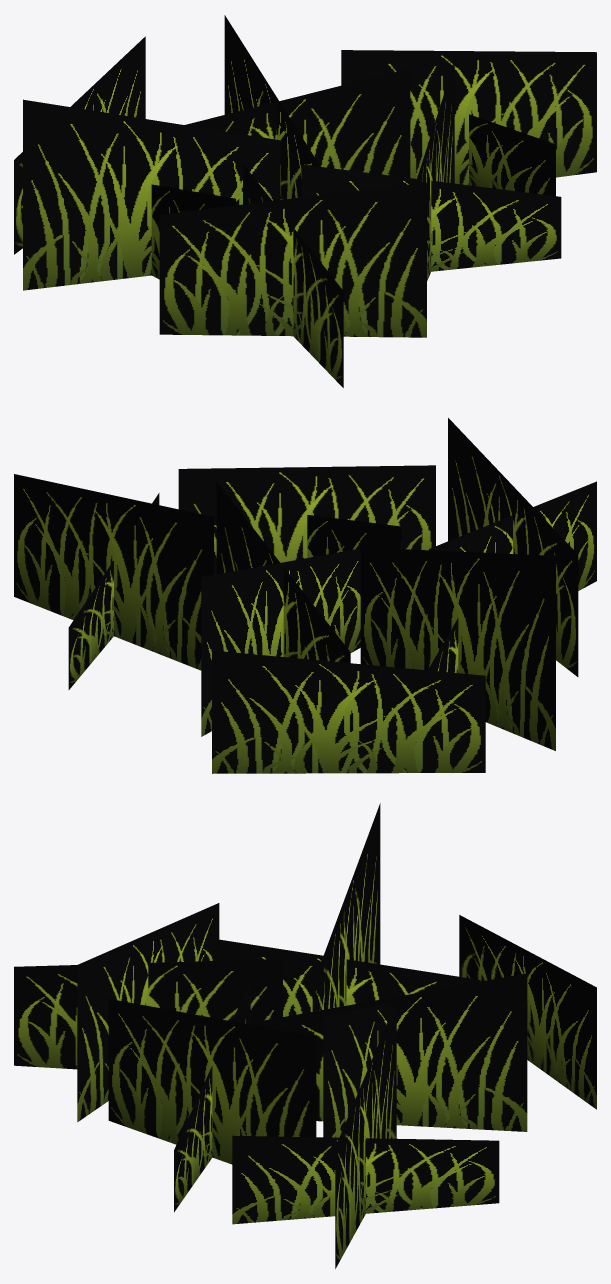
File: Grass3.glb
The picture shows the model from 3 angles, top to bottom: view 1: azimuth 30°, elevation 25°; view 2: azimuth 150°, elevation 25°; view 3: azimuth 270°, elevation 25°; orthographic projection. The views are drawn at different scales.
Parts seen in each view (by area): view 1: Type_2_Grass_2_LOD0; view 2: Type_2_Grass_2_LOD0; view 3: Type_2_Grass_2_LOD0.
Part boxes in pixels (<box>): Type_2_Grass_2_LOD0: <box>14,15,596,387</box>; Type_2_Grass_2_LOD0: <box>14,418,596,773</box>; Type_2_Grass_2_LOD0: <box>14,803,596,1268</box>.
Bounding box in the file's own units: 2.04 × 0.6736 × 1.84.
1 material, 1 textured.
